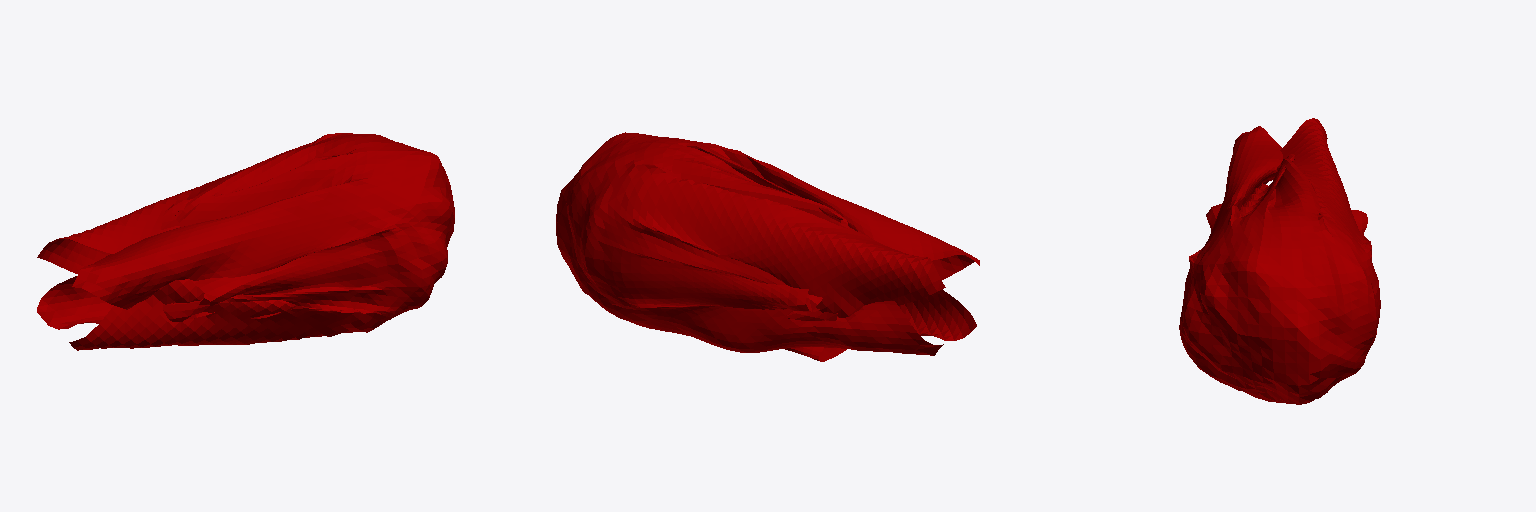
The model's file is Shell.obj.
The picture shows the model from 3 angles: view 1: azimuth 30°, elevation 25°; view 2: azimuth 150°, elevation 25°; view 3: azimuth 270°, elevation 25°; orthographic projection.
Parts seen in each view (by area): view 1: Plane; view 2: Plane; view 3: Plane.
Boxes of the visible parts, x1,y1,x2,y2 form: Plane: [37, 133, 454, 350]; Plane: [556, 132, 979, 361]; Plane: [1179, 118, 1380, 404].
Size of the model in its own units: 4.91 by 2.07 by 2.16.